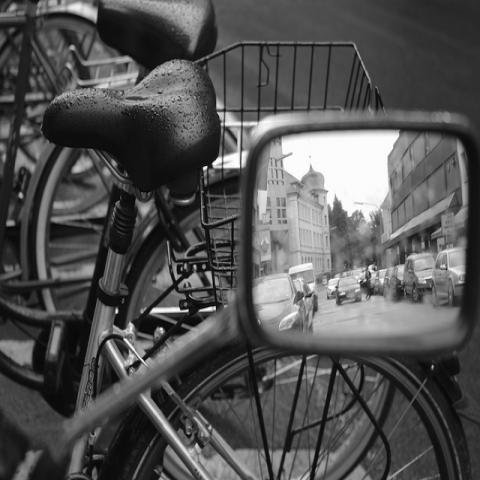car: (250, 272, 312, 336), (431, 246, 467, 307), (403, 252, 436, 303), (289, 265, 317, 310), (292, 277, 316, 325), (336, 276, 362, 306), (390, 264, 405, 302), (374, 268, 387, 297), (383, 267, 394, 298), (366, 262, 379, 288), (326, 277, 339, 300)
